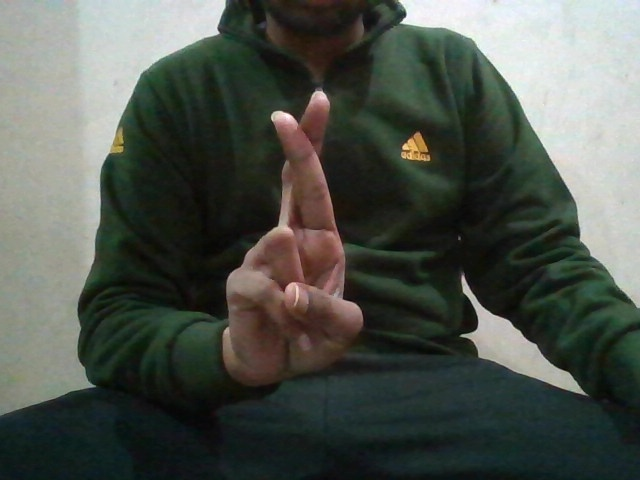R: (228, 84, 361, 393)
